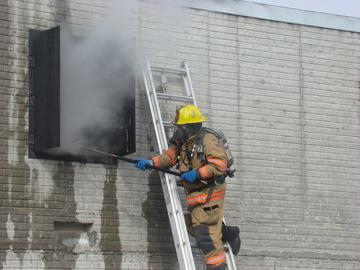smoke: (63, 30, 119, 149), (123, 6, 181, 68)
